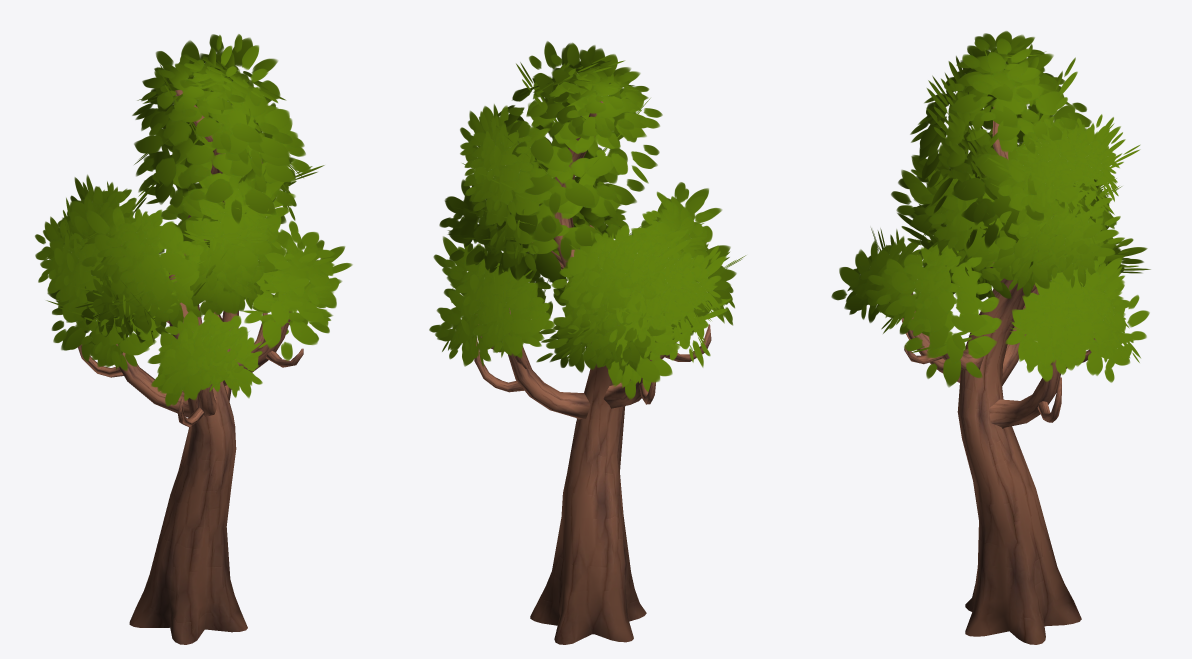
The model's file is tree_b.glb.
The picture shows the model from 3 angles, left to right: view 1: azimuth 30°, elevation 25°; view 2: azimuth 150°, elevation 25°; view 3: azimuth 270°, elevation 25°; orthographic projection. The views are drawn at different scales.
Parts seen in each view (by area): view 1: CommonTree_2; view 2: CommonTree_2; view 3: CommonTree_2.
Boxes of the visible parts, x1,y1,x2,y2 form: CommonTree_2: (35,34,352,644); CommonTree_2: (429,41,745,644); CommonTree_2: (831,31,1150,644).
Size of the model in its own units: 4.46 by 7.64 by 4.28.
Materials: 2 (2 with a texture image).
